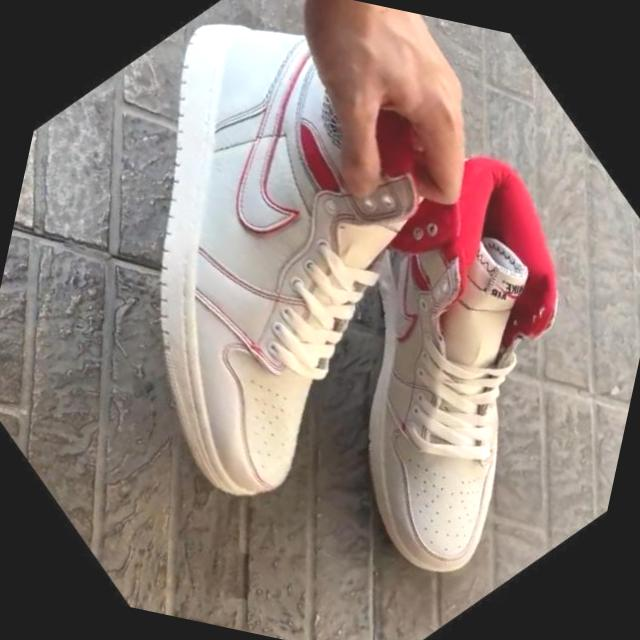nike_fake_jordan: (162, 63, 640, 632)
